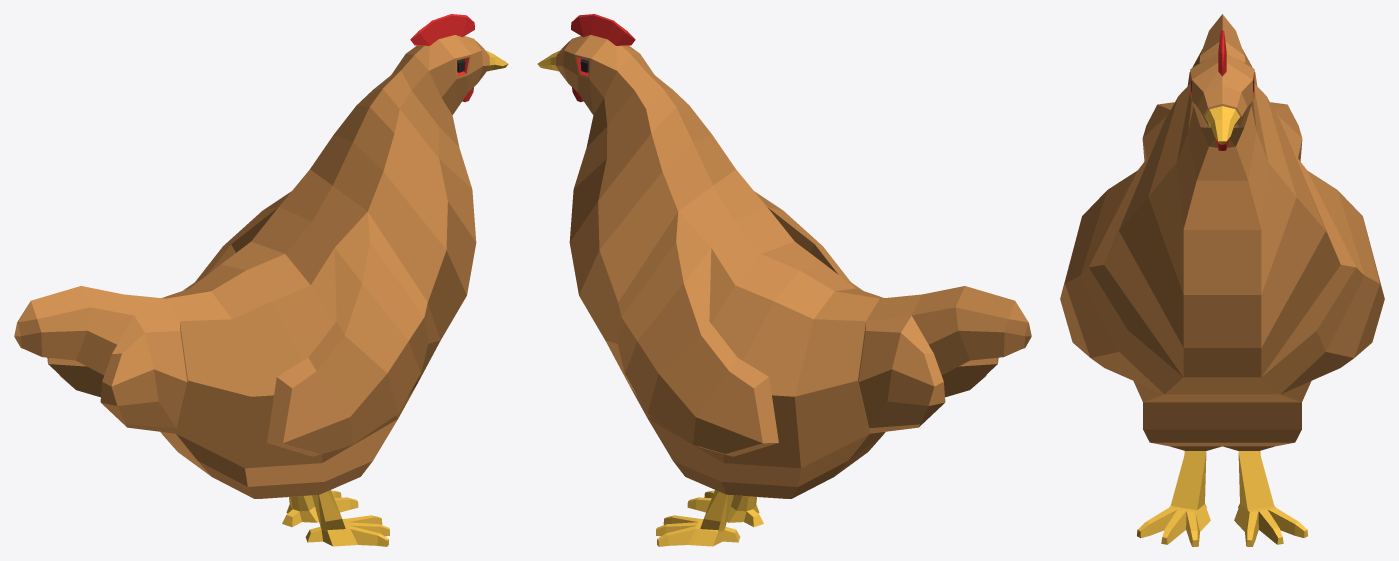
The model's file is Model_Chicken.fbx.
3 views of the same model, side by side, from view 1: azimuth 30°, elevation 25°; view 2: azimuth 150°, elevation 25°; view 3: azimuth 270°, elevation 25° (orthographic). The views are drawn at different scales.
Visible parts, largest first — view 1: Chicken; view 2: Chicken; view 3: Chicken.
Part boxes in pixels (box(x1,y1,x2,y2)): Chicken: box(14, 14, 508, 546); Chicken: box(537, 14, 1031, 546); Chicken: box(1060, 14, 1384, 546).
Bounding box in the file's own units: 355 × 669 × 717.
